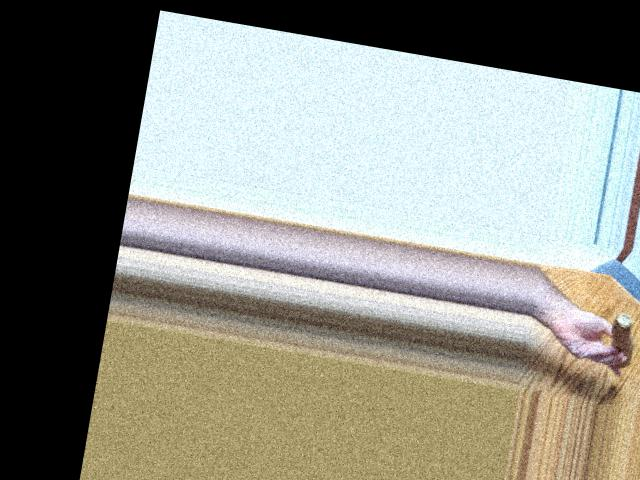sweet_potato: (613, 319, 639, 370)
